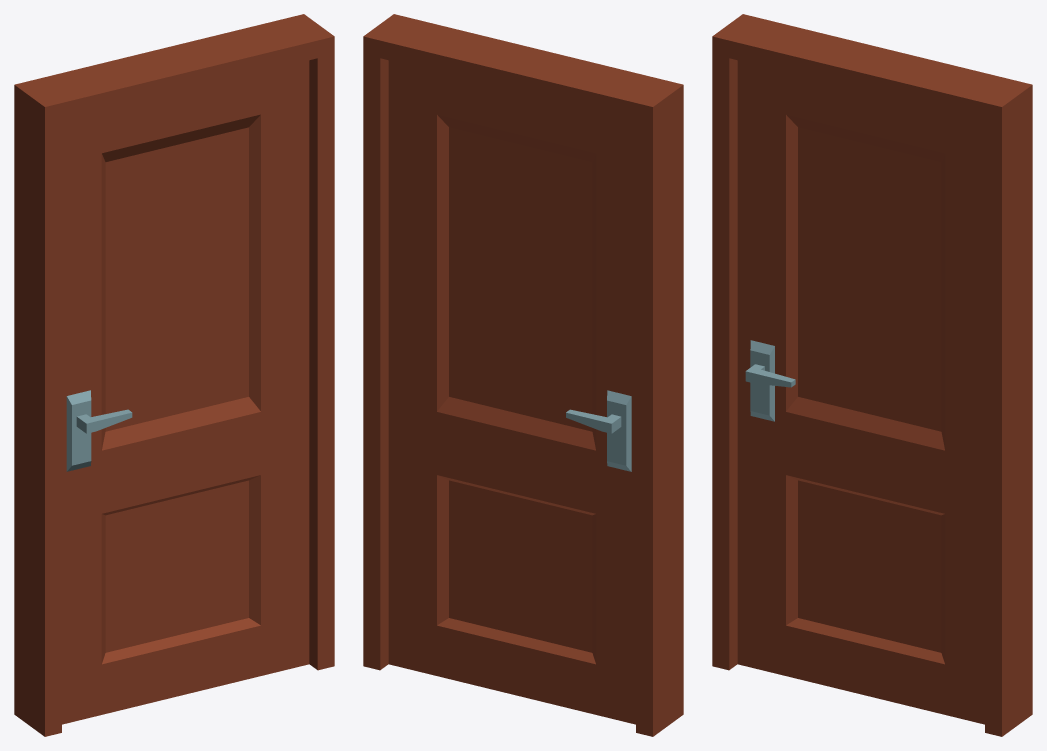
Rendered from door.obj.
3 views of the same model, side by side, from view 1: azimuth 30°, elevation 25°; view 2: azimuth 150°, elevation 25°; view 3: azimuth 330°, elevation 25° (orthographic).
Parts seen in each view (by area): view 1: door, doorway; view 2: door, doorway; view 3: door, doorway.
Boxes of the visible parts, x1,y1,x2,y2 form: door: (62, 60, 309, 724); doorway: (14, 14, 334, 736); door: (388, 60, 635, 724); doorway: (363, 14, 683, 736); door: (737, 60, 984, 724); doorway: (712, 14, 1032, 736).
Bounding box in the file's own units: 0.486 × 1.01 × 0.1134.
